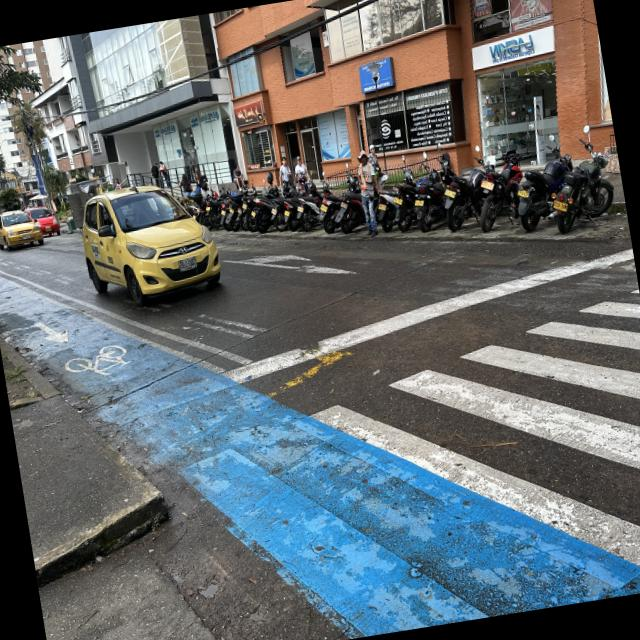number plate: (179, 256, 197, 272), (553, 200, 568, 212), (517, 188, 530, 199), (481, 180, 494, 190), (444, 189, 456, 198), (393, 197, 403, 205), (378, 203, 387, 211), (340, 202, 348, 209), (320, 205, 328, 212), (415, 200, 424, 206), (297, 206, 304, 213), (271, 208, 277, 215), (23, 234, 31, 239), (284, 211, 290, 217), (251, 211, 256, 217), (242, 204, 247, 210)
